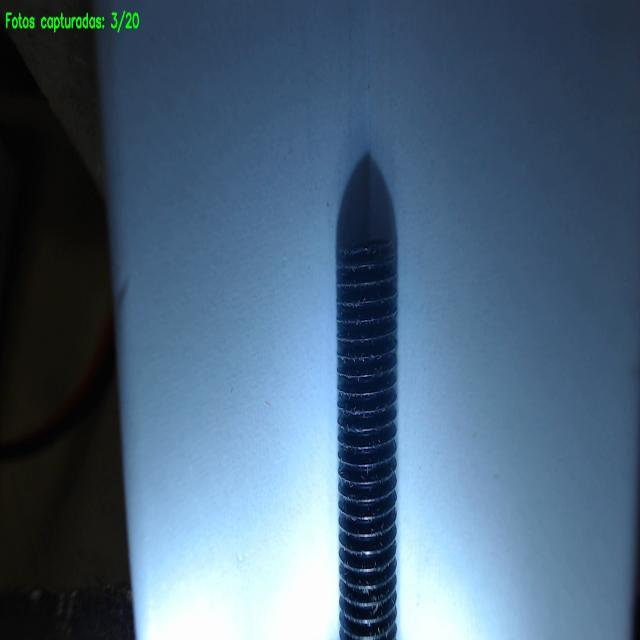vastago: (338, 239, 396, 639)
